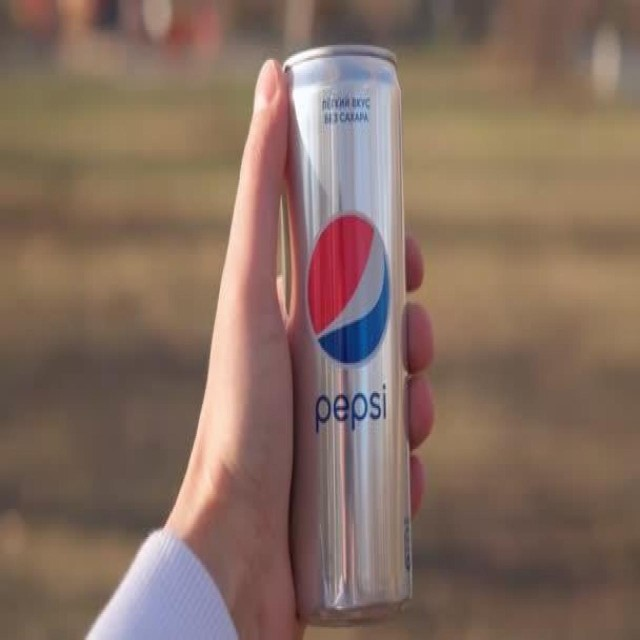pepsi: (308, 206, 394, 369)
